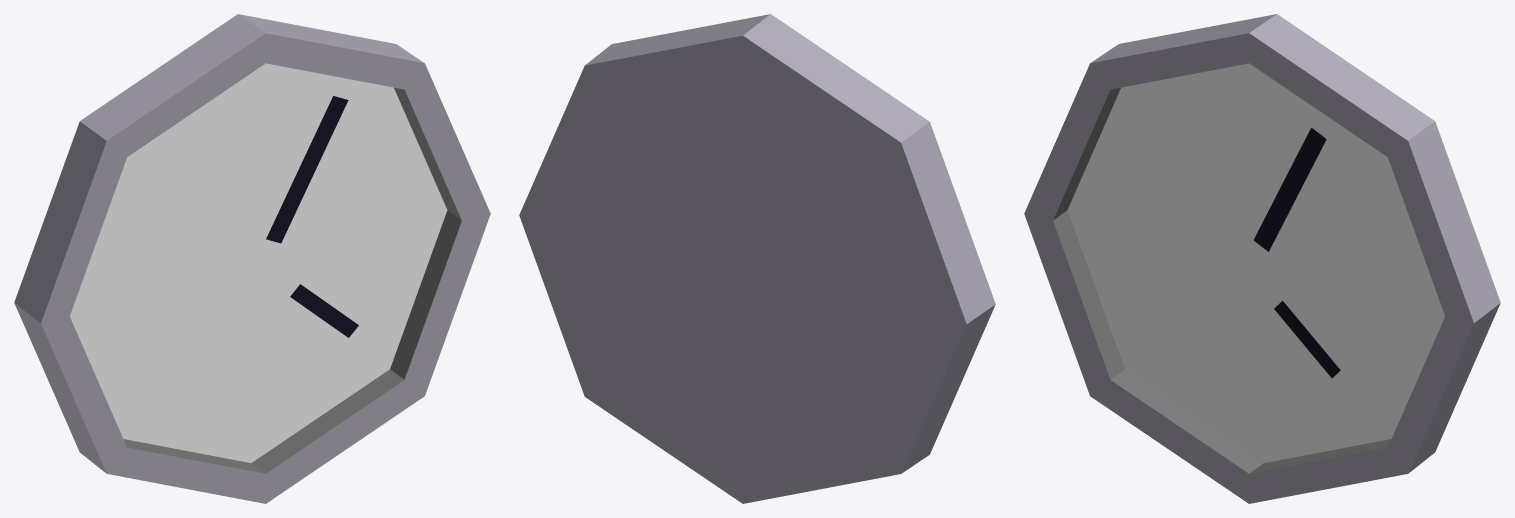
Rendered from clock.dae.
The picture shows the model from 3 angles, left to right: view 1: azimuth 30°, elevation 25°; view 2: azimuth 150°, elevation 25°; view 3: azimuth 330°, elevation 25°; orthographic projection.
Visible parts, largest first — view 1: clock; view 2: clock; view 3: clock.
Boxes of the visible parts, <box> form: clock: <box>14,14,490,503</box>; clock: <box>519,14,995,503</box>; clock: <box>1024,14,1500,503</box>.
Bounding box in the file's own units: 0.5443 × 0.0639 × 0.5443.
Materials: 1 (1 with a texture image).
